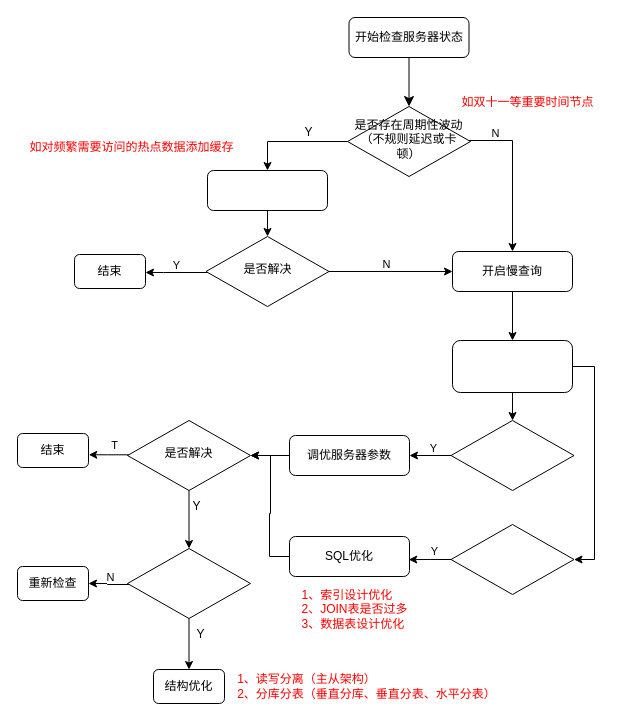
Some shapes in this 620 by 724 pixel diagram are drawn without their labels. The shapes that lost their labels are listed below. From the top down, each one's centre as x and y in pixels, then its label:
At (x=267, y=190): "加缓存，更改缓存策略".
At (x=512, y=366): "查询的性能统计信息（EXPLAIN SHOW PROFILING）".
At (x=512, y=455): "SQL等待时间长".
At (x=512, y=559): "SQL执行时间长".
At (x=188, y=583): "SQL查询到达瓶颈".
